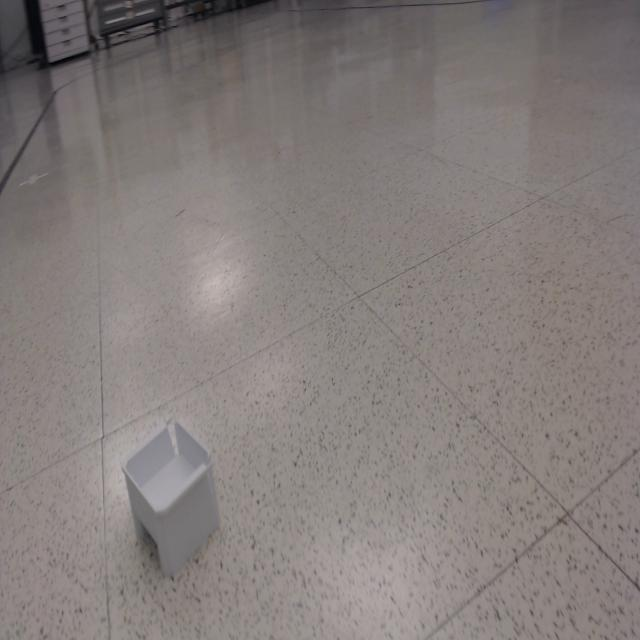wbox: (119, 416, 221, 580)
